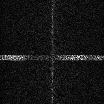wifi: (1, 54, 104, 60)
